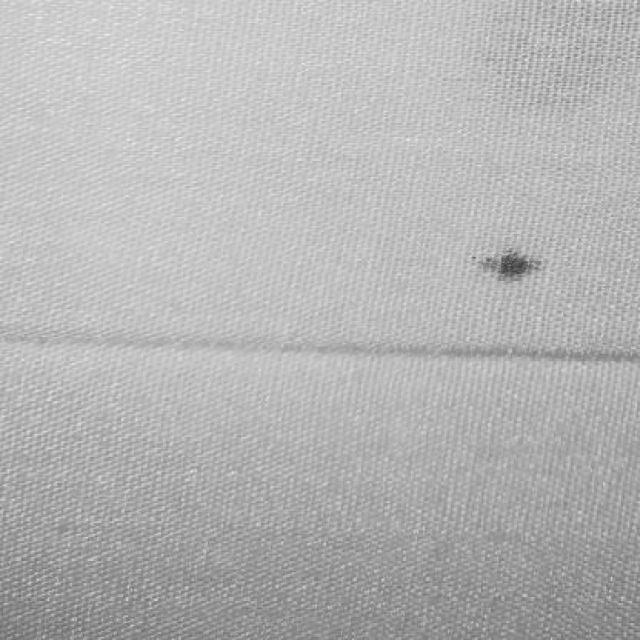Hole: (400, 193, 604, 335)
